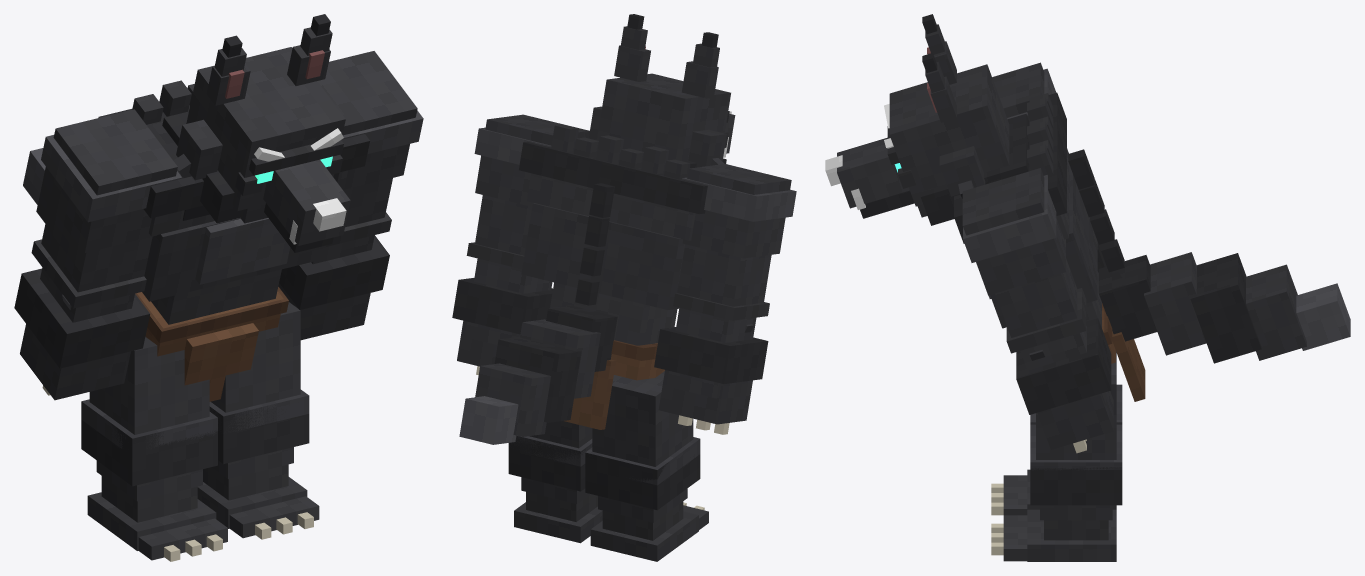
File: lycan_base.glb
3 renders of one model, left to right at view 1: azimuth 30°, elevation 25°; view 2: azimuth 150°, elevation 25°; view 3: azimuth 270°, elevation 25°, orthographic. The views are drawn at different scales.
Visible parts, largest first — view 1: ArmR, Head, Torso, LegR, ArmL, LegL, Root; view 2: Torso, ArmR, LegR, ArmL, Head, LegL; view 3: Torso, ArmL, Head, LegL, ArmR, LegR, Root.
Part boxes in pixels (x1=…): ArmR: x1=14, y1=109, x2=183, y2=400; Head: x1=162, y1=14, x2=350, y2=252; Torso: x1=23, y1=80, x2=369, y2=401; LegR: x1=81, y1=337, x2=227, y2=560; ArmL: x1=278, y1=51, x2=423, y2=340; LegL: x1=197, y1=302, x2=319, y2=538; Root: x1=164, y1=512, x2=313, y2=561; Torso: x1=459, y1=124, x2=707, y2=444; ArmR: x1=654, y1=164, x2=796, y2=434; LegR: x1=585, y1=371, x2=708, y2=561; ArmL: x1=452, y1=114, x2=589, y2=375; Head: x1=585, y1=14, x2=735, y2=168; LegL: x1=508, y1=421, x2=602, y2=543; Torso: x1=954, y1=92, x2=1350, y2=401; ArmL: x1=962, y1=168, x2=1113, y2=453; Head: x1=825, y1=14, x2=1029, y2=225; LegL: x1=1003, y1=351, x2=1122, y2=561; ArmR: x1=992, y1=62, x2=1106, y2=272; LegR: x1=1003, y1=384, x2=1122, y2=515; Root: x1=991, y1=483, x2=1003, y2=555.
Size of the model in its own units: 1.24 by 1.94 by 1.89.
Materials: 24 (24 with a texture image).
